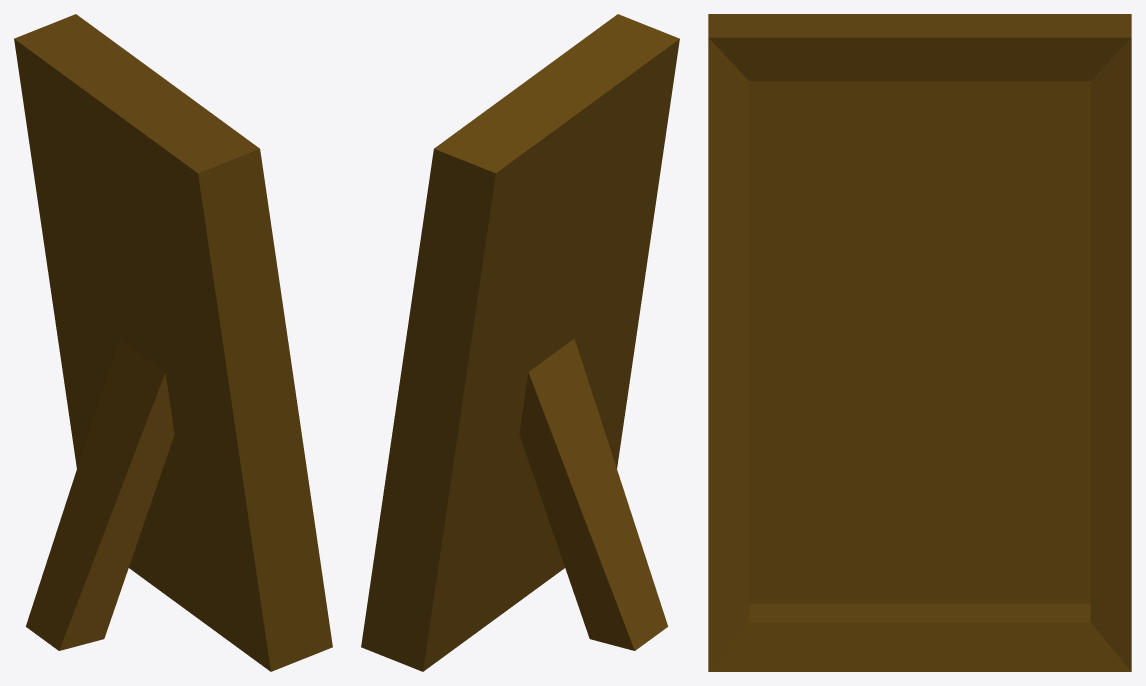
Rendered from pictureframetable03.gltf.
The picture shows the model from 3 angles, left to right: view 1: azimuth 30°, elevation 25°; view 2: azimuth 150°, elevation 25°; view 3: azimuth 270°, elevation 25°; orthographic projection. The views are drawn at different scales.
Parts seen in each view (by area): view 1: Cube.001; view 2: Cube.001; view 3: Cube.001.
Part boxes in pixels (box(x1,y1,x2,y2)): Cube.001: box(14, 14, 332, 671); Cube.001: box(361, 14, 679, 671); Cube.001: box(708, 14, 1131, 671).
Bounding box in the file's own units: 0.0454 × 0.115 × 0.0728.
Materials: 1 (1 with a texture image).
